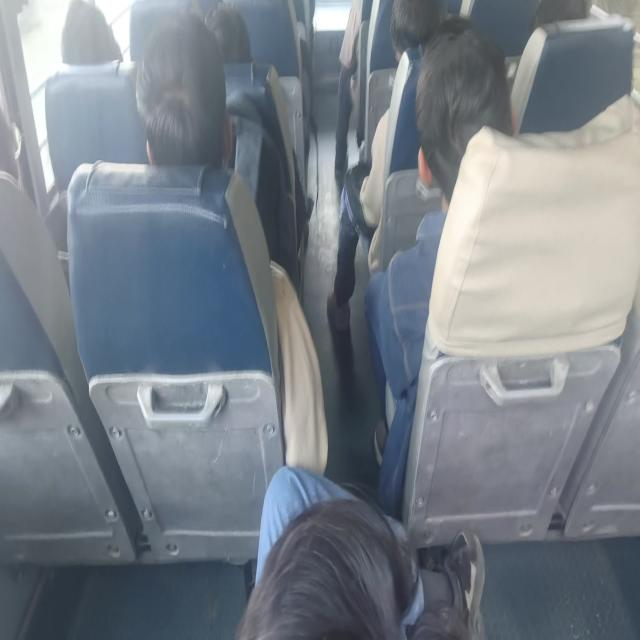person: (250, 488, 412, 626), (135, 34, 230, 168), (428, 32, 498, 205), (194, 0, 263, 71), (52, 0, 120, 72), (0, 85, 46, 183), (387, 0, 451, 66), (522, 0, 591, 44)
